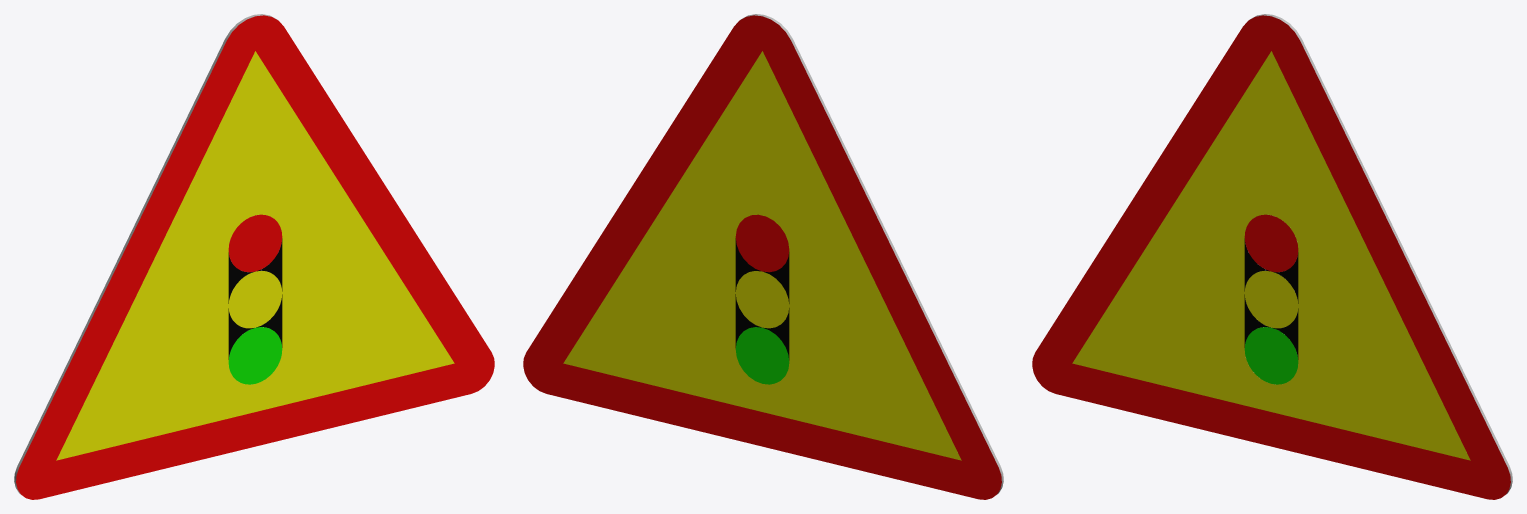
Rendered from w.209_giaonhaucotinhieuden.glb.
3 views of the same model, side by side, from view 1: azimuth 30°, elevation 25°; view 2: azimuth 150°, elevation 25°; view 3: azimuth 330°, elevation 25° (orthographic).
Parts seen in each view (by area): view 1: Solid2; view 2: Solid2; view 3: Solid2.
Boxes of the visible parts, x1,y1,x2,y2 form: Solid2: (14,14,494,499); Solid2: (523,14,1003,499); Solid2: (1032,14,1512,499).
Size of the model in its own units: 0.7208 by 0.6191 by 0.005.
